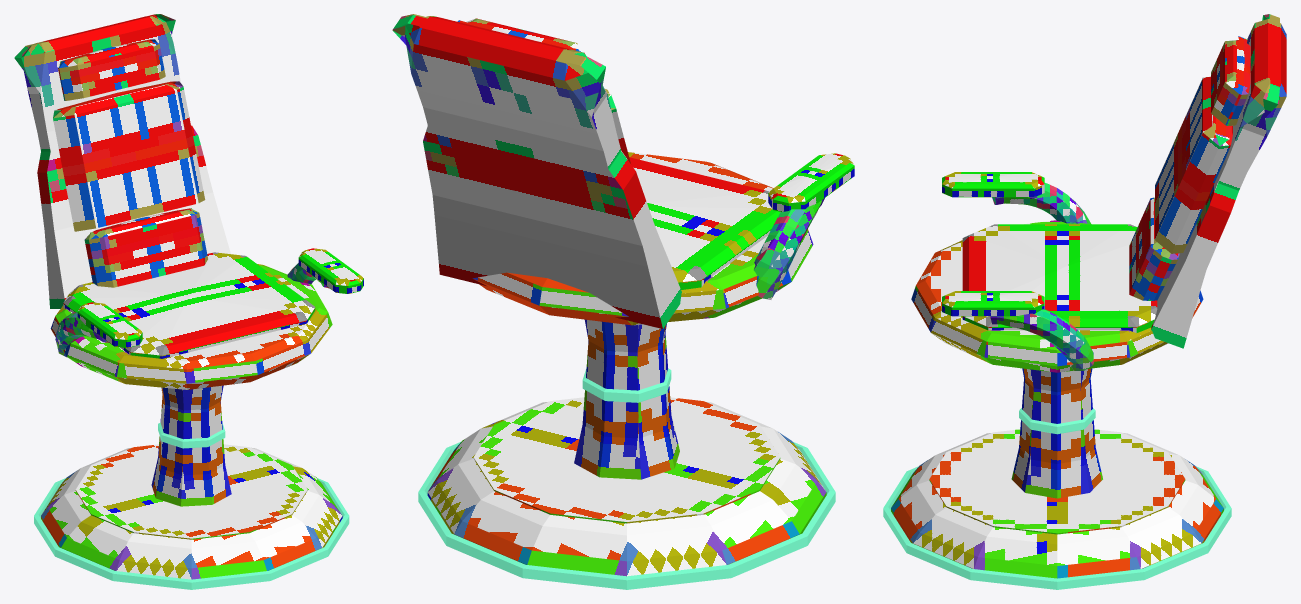
The model's file is futuristic_floating_chair.gltf.
3 renders of one model, left to right at view 1: azimuth 30°, elevation 25°; view 2: azimuth 150°, elevation 25°; view 3: azimuth 270°, elevation 25°, orthographic. The views are drawn at different scales.
Parts seen in each view (by area): view 1: BackCushion_Main, SeatCushion, PuckBase, BackRest, PuckTopRing, SeatShell, SupportPost, BackCushion_Lumbar, BackCushion_Head, PuckGlowRim, ArmPad_+1, ArmPad_-1 (+2 smaller); view 2: BackRest, PuckBase, PuckTopRing, SupportPost, SeatCushion, SeatShell, PuckGlowRim, ArmPad_-1, ArmTube_-1, PostGlow, BackCushion_Head; view 3: PuckBase, PuckTopRing, SeatCushion, BackRest, SeatShell, SupportPost, BackCushion_Main, PuckGlowRim, BackCushion_Lumbar, BackCushion_Head, ArmPad_-1, ArmPad_+1 (+3 smaller).
Boxes of the visible parts, box(x1,y1,x2,y2) form: BackCushion_Main: box(53, 81, 205, 231); SeatCushion: box(63, 252, 315, 358); PuckBase: box(41, 447, 342, 579); BackRest: box(14, 14, 230, 308); PuckTopRing: box(75, 444, 307, 539); SeatShell: box(50, 264, 332, 389); SupportPost: box(151, 385, 231, 506); BackCushion_Lumbar: box(84, 208, 207, 287); BackCushion_Head: box(58, 39, 165, 100); PuckGlowRim: box(34, 478, 349, 589); ArmPad_+1: box(298, 248, 363, 293); ArmPad_-1: box(77, 302, 142, 347); BackRest: box(392, 14, 681, 328); PuckBase: box(427, 402, 826, 576); PuckTopRing: box(473, 397, 780, 523); SupportPost: box(574, 319, 679, 479); SeatCushion: box(629, 157, 780, 289); SeatShell: box(472, 152, 813, 325); PuckGlowRim: box(418, 442, 835, 589); ArmPad_-1: box(768, 153, 854, 211); ArmTube_-1: box(753, 198, 824, 299); PostGlow: box(582, 368, 671, 402); BackCushion_Head: box(457, 18, 580, 51); PuckBase: box(891, 433, 1223, 578); PuckTopRing: box(929, 429, 1185, 534); SeatCushion: box(962, 224, 1157, 332); BackRest: box(1151, 14, 1286, 348); SeatShell: box(911, 220, 1203, 372); SupportPost: box(1011, 368, 1102, 498); BackCushion_Main: box(1155, 76, 1232, 253); PuckGlowRim: box(883, 466, 1231, 589); BackCushion_Lumbar: box(1129, 197, 1179, 300); BackCushion_Head: box(1211, 36, 1250, 125); ArmPad_-1: box(942, 172, 1044, 197); ArmPad_+1: box(942, 291, 1044, 316).
Bounding box in the file's own units: 1.36 × 2.02 × 1.58.
Materials: 14 (14 with a texture image).
